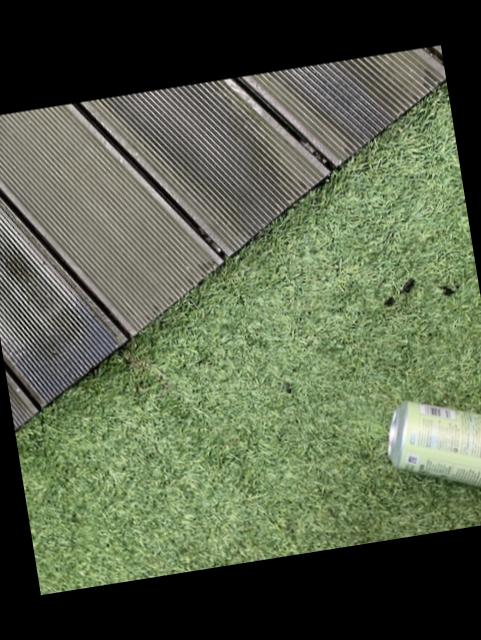metal: (0, 45, 445, 427)
